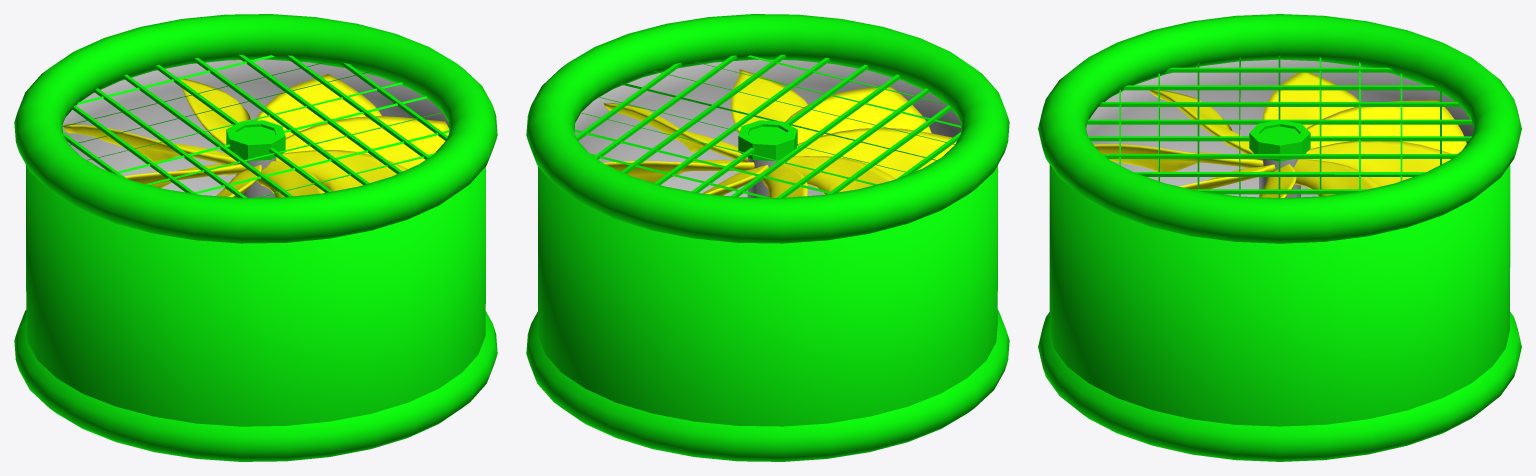
The model's file is Fan Green Yellow.glb.
3 renders of one model, left to right at view 1: azimuth 30°, elevation 25°; view 2: azimuth 150°, elevation 25°; view 3: azimuth 270°, elevation 25°, orthographic.
Parts seen in each view (by area): view 1: Fan_Green_Yellow, Plane.002; view 2: Fan_Green_Yellow, Plane.002; view 3: Fan_Green_Yellow, Plane.002.
Boxes of the visible parts, x1,y1,x2,y2 form: Fan_Green_Yellow: (14, 14, 497, 461); Plane.002: (63, 74, 449, 197); Fan_Green_Yellow: (526, 14, 1009, 461); Plane.002: (603, 69, 956, 197); Fan_Green_Yellow: (1038, 14, 1521, 461); Plane.002: (1094, 72, 1466, 197).
Size of the model in its own units: 2.23 by 1.32 by 2.23.
